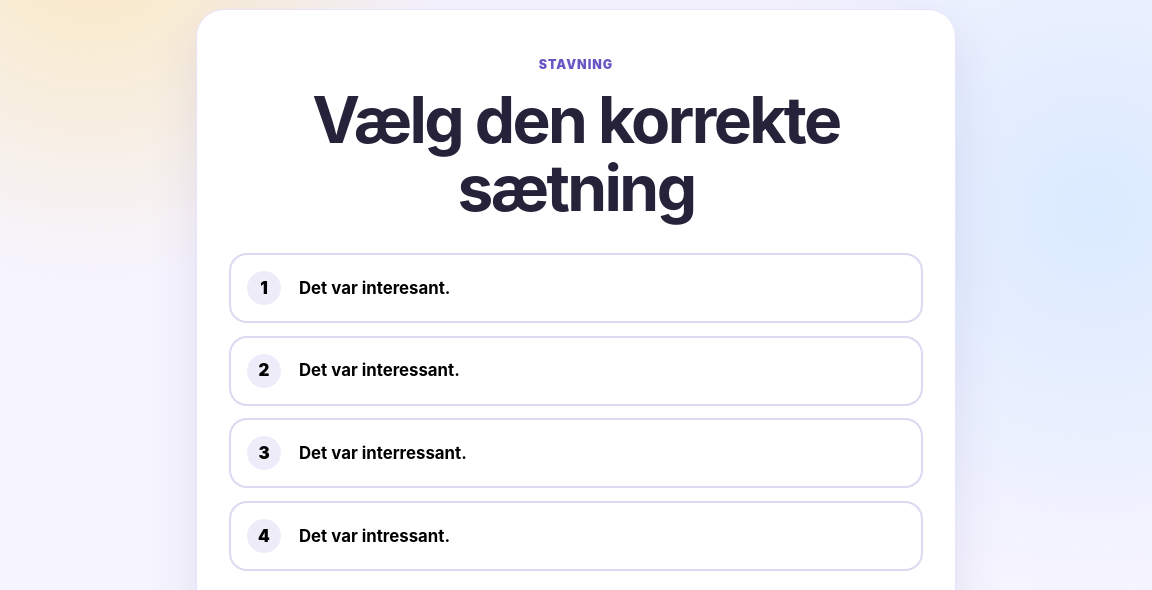
Scenario: TrainingPage › submits an answer and shows supportive feedback
Click the button with aria-label "Svar 2: Det var interessant.".
click(264, 371)  # box [229, 336, 923, 406]
(page scrolled)
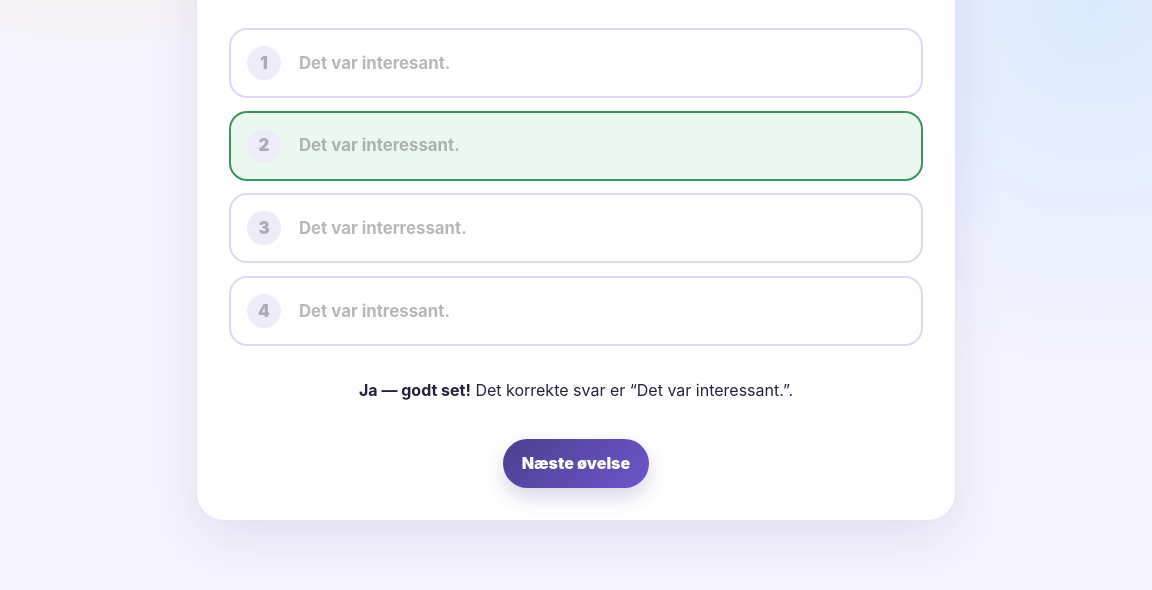
Check: the text "Ja — godt set!" is shown, box [359, 380, 471, 400]
Check: the button "Næste øvelse" is enabled, box [503, 439, 649, 488]
